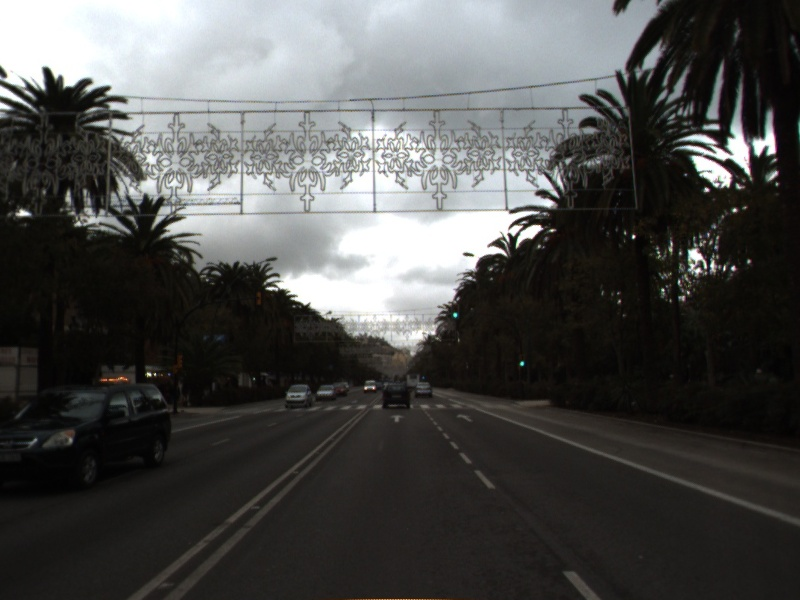STRAIGHT: (454, 412, 476, 425), (387, 412, 408, 424)
